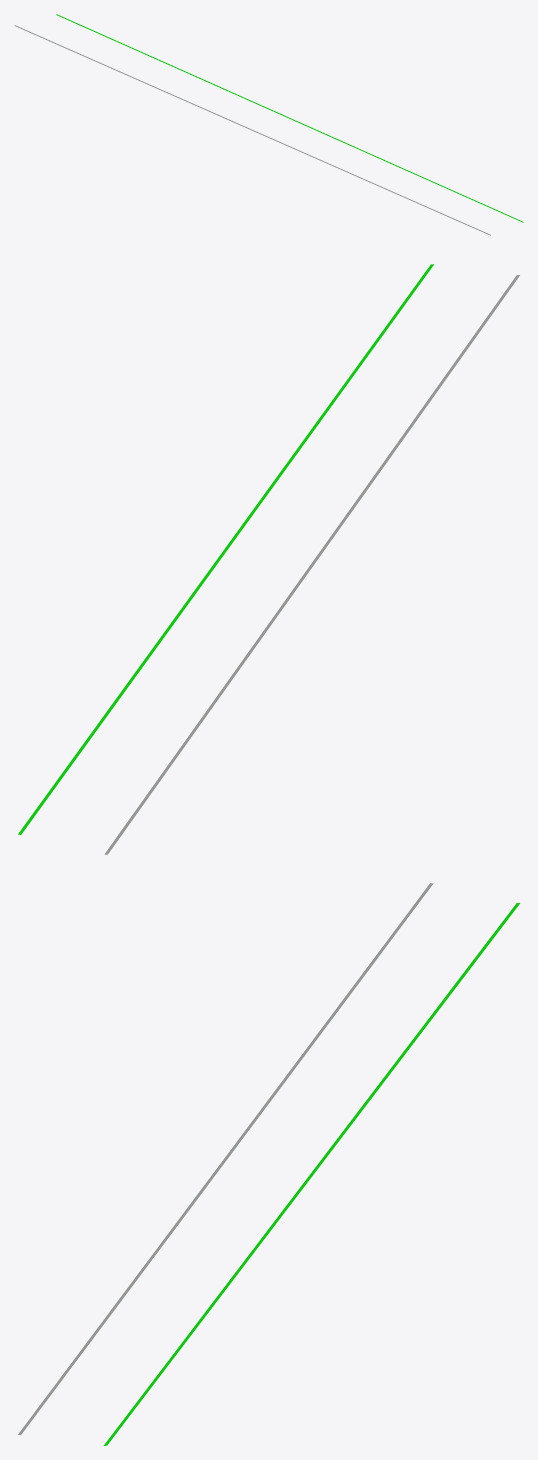
3 renders of one model, top to bottom at view 1: azimuth 30°, elevation 25°; view 2: azimuth 150°, elevation 25°; view 3: azimuth 330°, elevation 25°, orthographic. The views are drawn at different scales.
Visible parts, largest first — view 1: G:\FFXIV-MapTools\exports\x6f3\bg\ex5\01_xkt_x6\fld\x6f3\bgp; view 2: G:\FFXIV-MapTools\exports\x6f3\bg\ex5\01_xkt_x6\fld\x6f3\bgp; view 3: G:\FFXIV-MapTools\exports\x6f3\bg\ex5\01_xkt_x6\fld\x6f3\bgp.
Part boxes in pixels (x1,y1,x2,y2): G:\FFXIV-MapTools\exports\x6f3\bg\ex5\01_xkt_x6\fld\x6f3\bgp: (14, 14, 523, 235); G:\FFXIV-MapTools\exports\x6f3\bg\ex5\01_xkt_x6\fld\x6f3\bgp: (18, 264, 519, 854); G:\FFXIV-MapTools\exports\x6f3\bg\ex5\01_xkt_x6\fld\x6f3\bgp: (18, 883, 519, 1445).
Size of the model in its own units: 25.38 by 0.9688 by 86.44.
